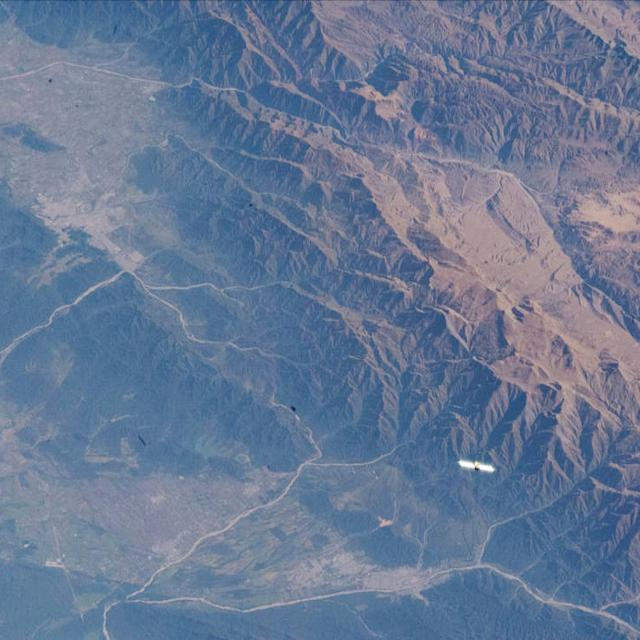satellite: (459, 455, 499, 480)
